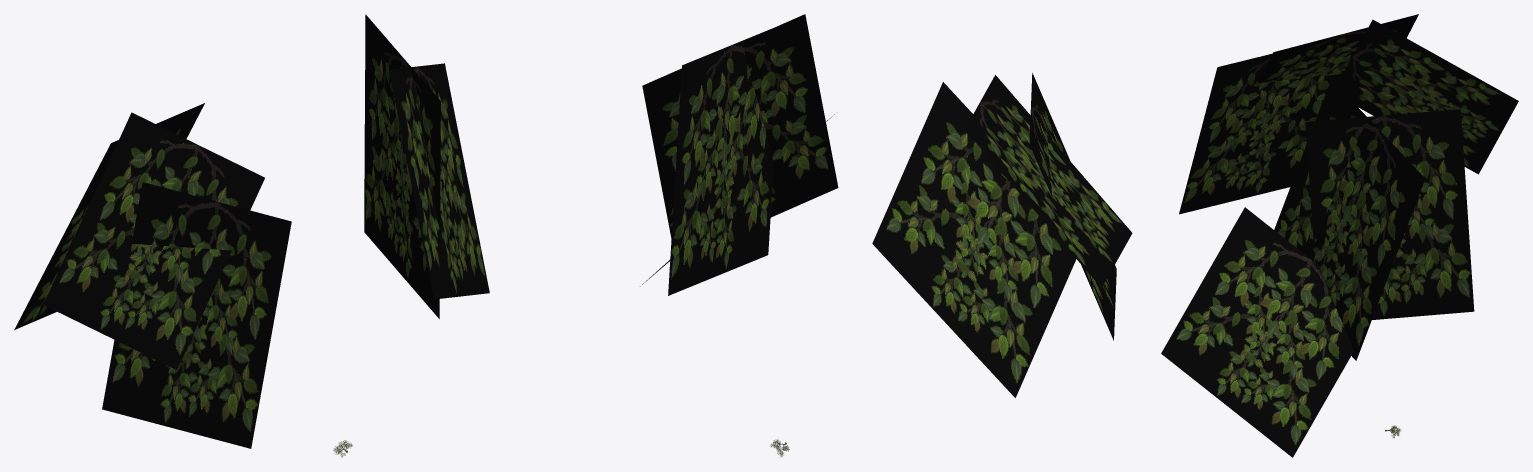
Rendered from saban-trees.glb.
3 renders of one model, left to right at view 1: azimuth 30°, elevation 25°; view 2: azimuth 150°, elevation 25°; view 3: azimuth 270°, elevation 25°, orthographic. The views are drawn at different scales.
Parts seen in each view (by area): view 1: inst0; view 2: inst0; view 3: inst0.
Boxes of the visible parts, x1,y1,x2,y2 form: inst0: (14, 14, 489, 448); inst0: (640, 14, 1132, 397); inst0: (1161, 14, 1518, 457).
Size of the model in its own units: 140 by 108 by 96.17.
Materials: 3 (3 with a texture image).
